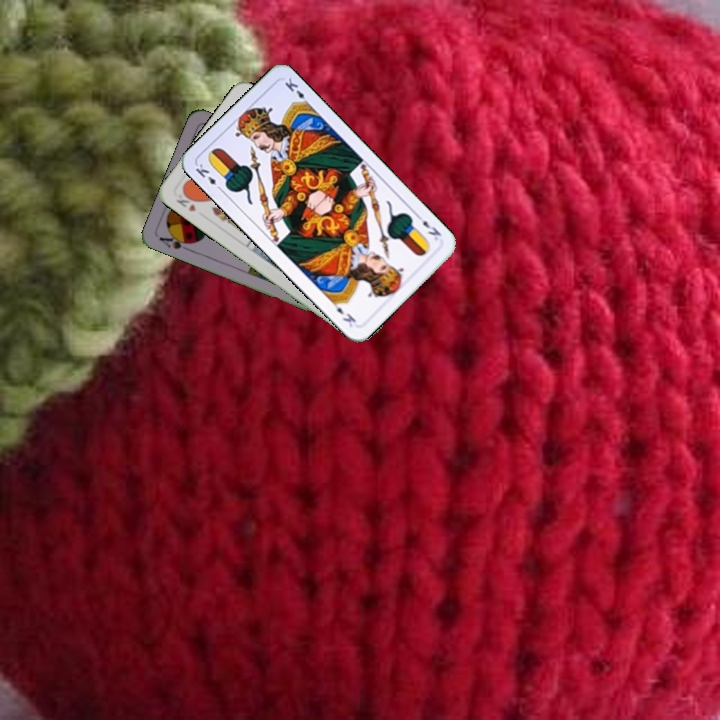EK: (191, 159, 225, 194), (412, 210, 444, 243)
HK: (171, 188, 200, 214)
SA: (155, 230, 196, 254)
